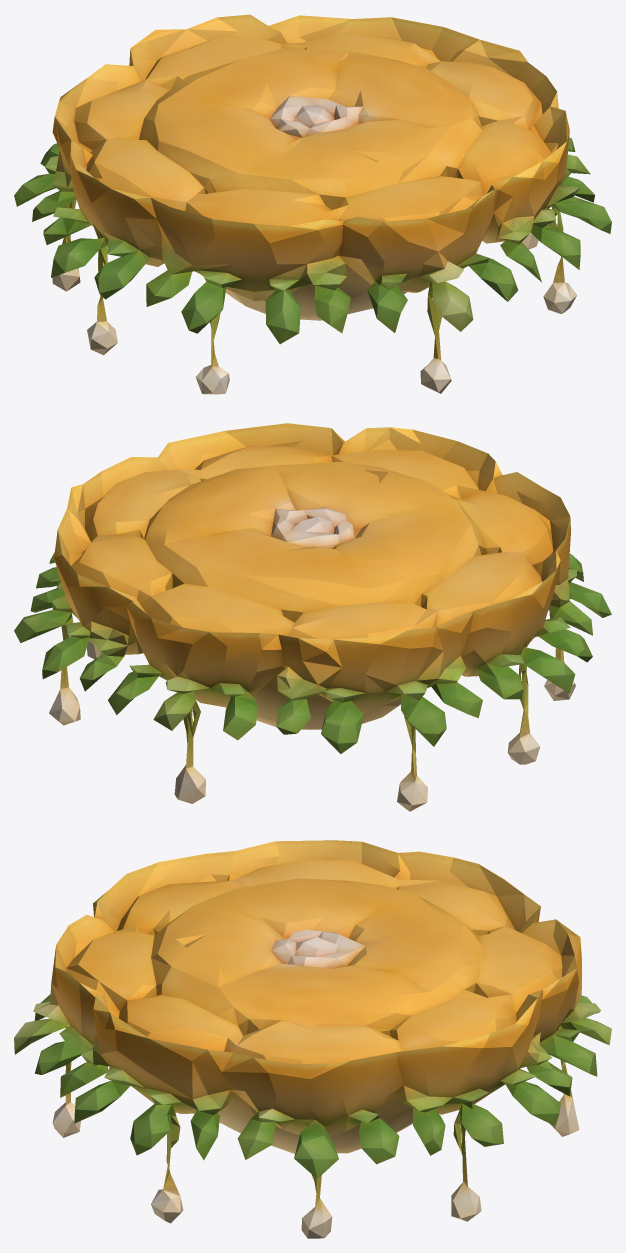
3 views of the same model, one above another, from view 1: azimuth 30°, elevation 25°; view 2: azimuth 150°, elevation 25°; view 3: azimuth 270°, elevation 25° (orthographic).
Visible parts, largest first — view 1: model; view 2: model; view 3: model.
Boxes of the visible parts, x1,y1,x2,y2 form: model: (14,14,611,394); model: (14,423,611,811); model: (14,840,611,1238).
Bounding box in the file's own units: 187 × 67.19 × 183.
1 material, 1 textured.
